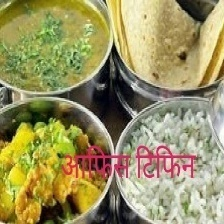roti: (106, 0, 224, 94)
